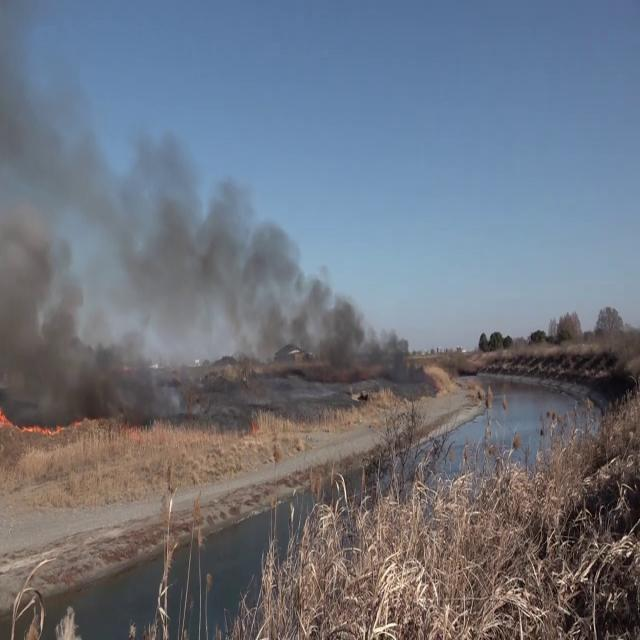Smoke: (1, 122, 413, 408)
